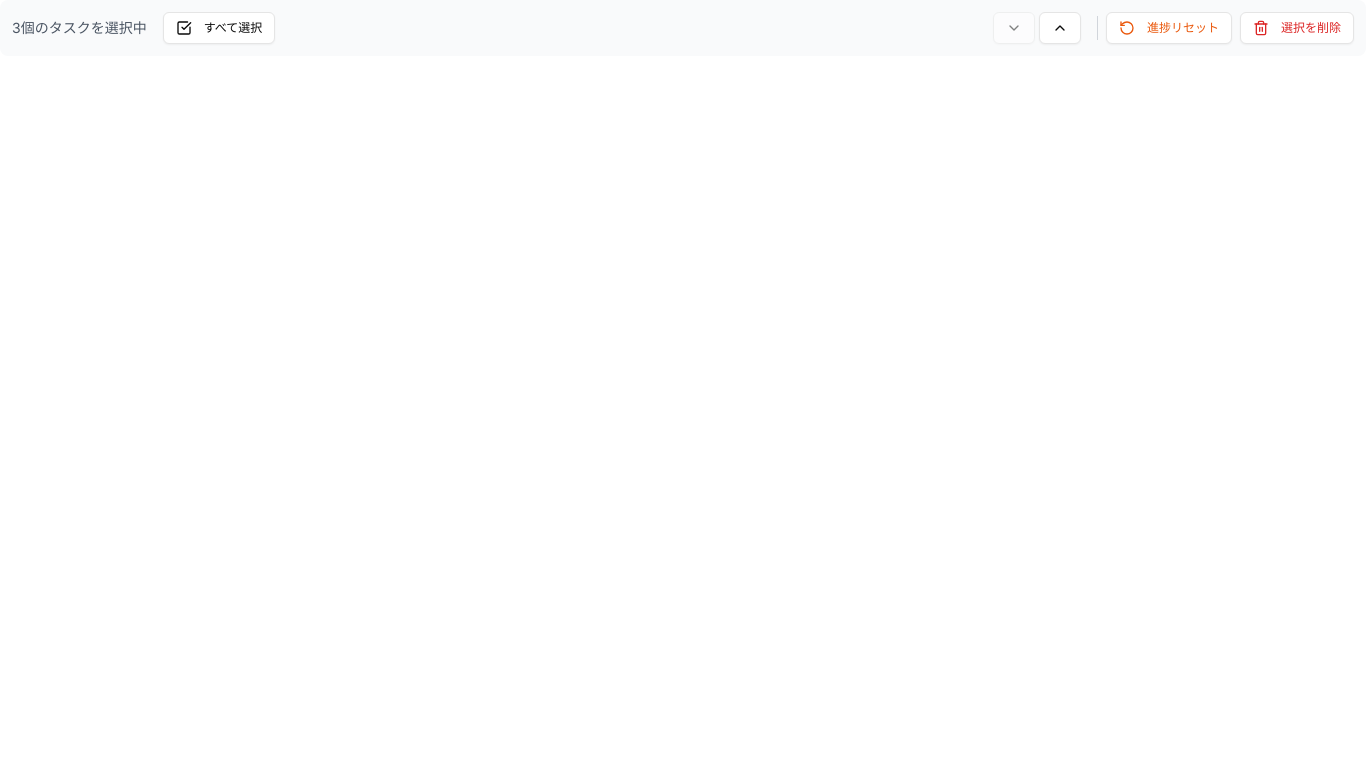
WBSBulkActions › shows delete confirmation dialog
Click the button "選択を削除" at (1297,28), box 1240,12 -> 1354,44
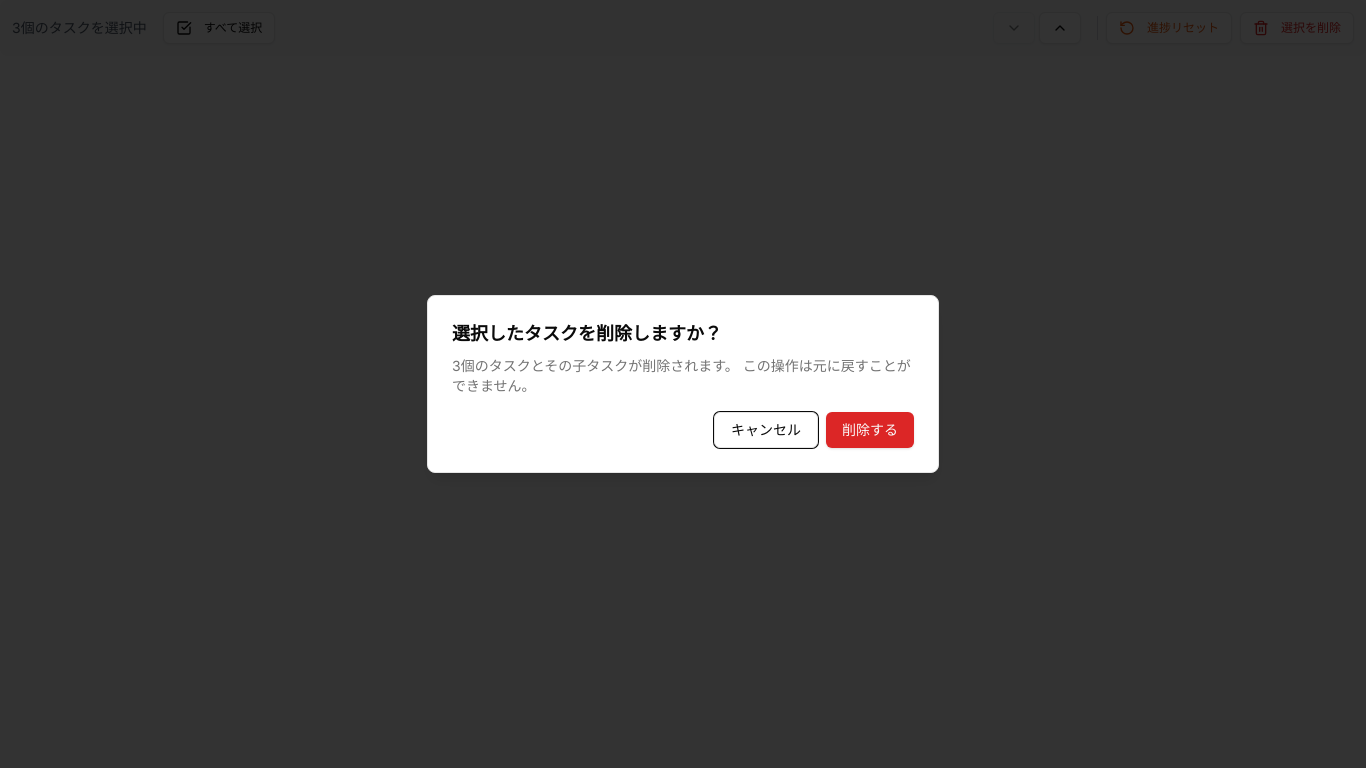
Result: the heading "選択したタスクを削除しますか？" is shown at 452,323 -> 722,344
Result: the text "3個のタスクとその子タスクが削除されます。 この操作は元に戻すことができません。" is shown at 452,356 -> 914,396
